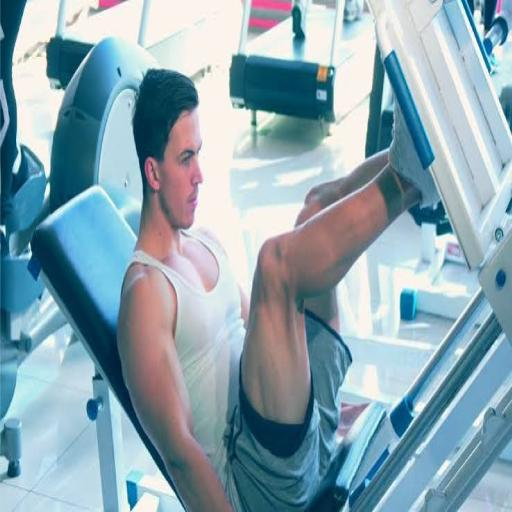Leg Press: (34, 33, 507, 491)
